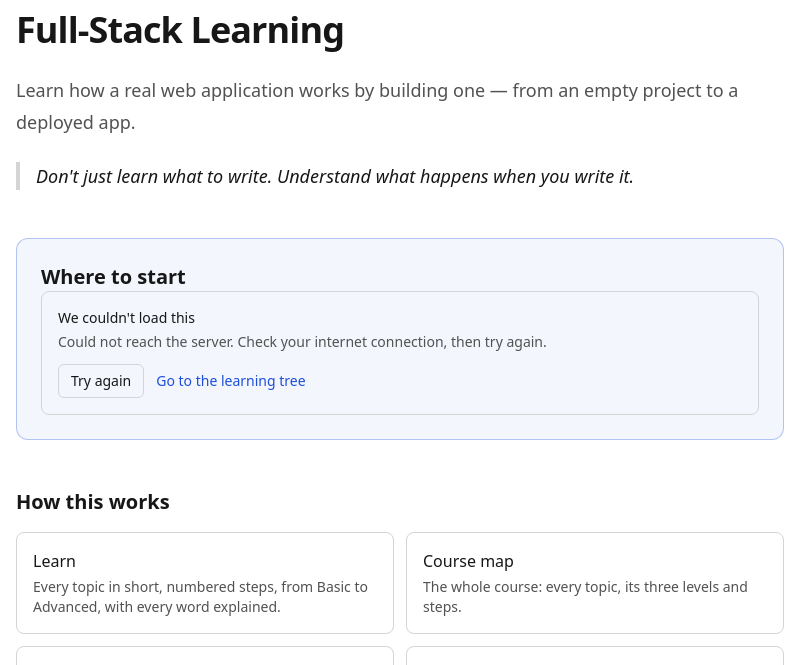
Scenario: HomePage › shows an error with retry when the API is unreachable
This screenshot has width=801, height=665.
Check: the message shows "Could not reach the server.", box x1=58 y1=332 x2=547 y2=351
What coordinates should you click on to do the following:
click the button "Try again"
I would click on:
 (101, 381)
Its box is x1=58 y1=364 x2=144 y2=398.
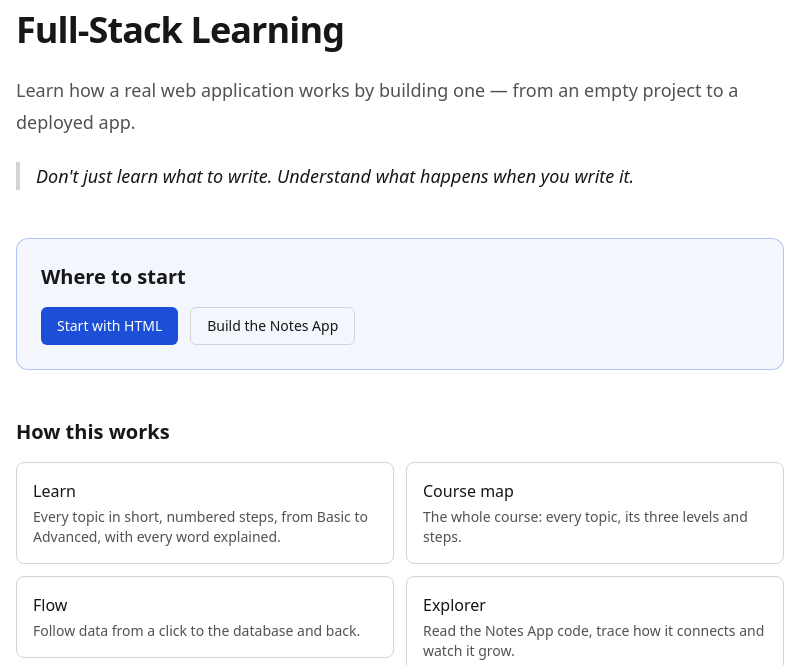
Check: the link "Start with HTML" is shown, box x1=41 y1=307 x2=178 y2=345
